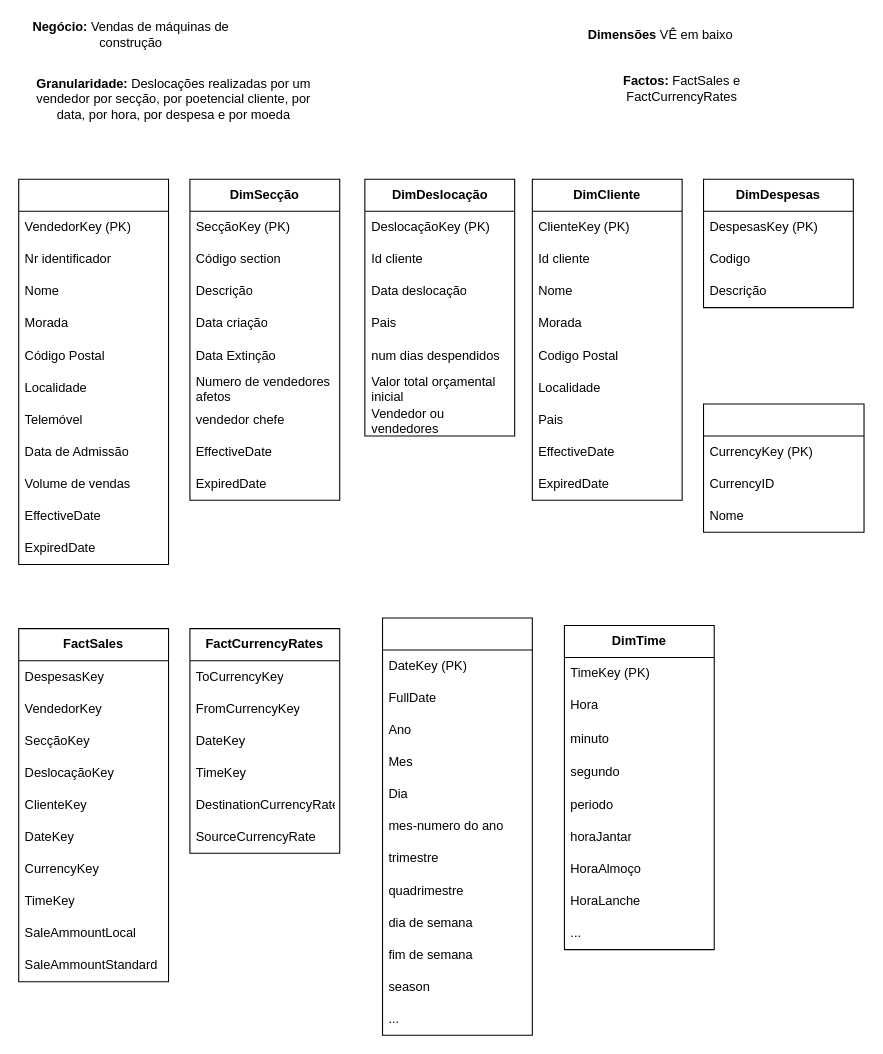
Some shapes in this 883 by 1054 pixel diagram are drawn without their labels. Here are the shapes that lost their labels. From the top down, the box of each, then its label:
(18, 178, 169, 564): DimVendedor
(702, 403, 864, 532): DimCurrency
(381, 617, 532, 1035): Dim Date
